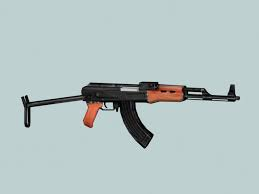weapon: (20, 76, 240, 149)
